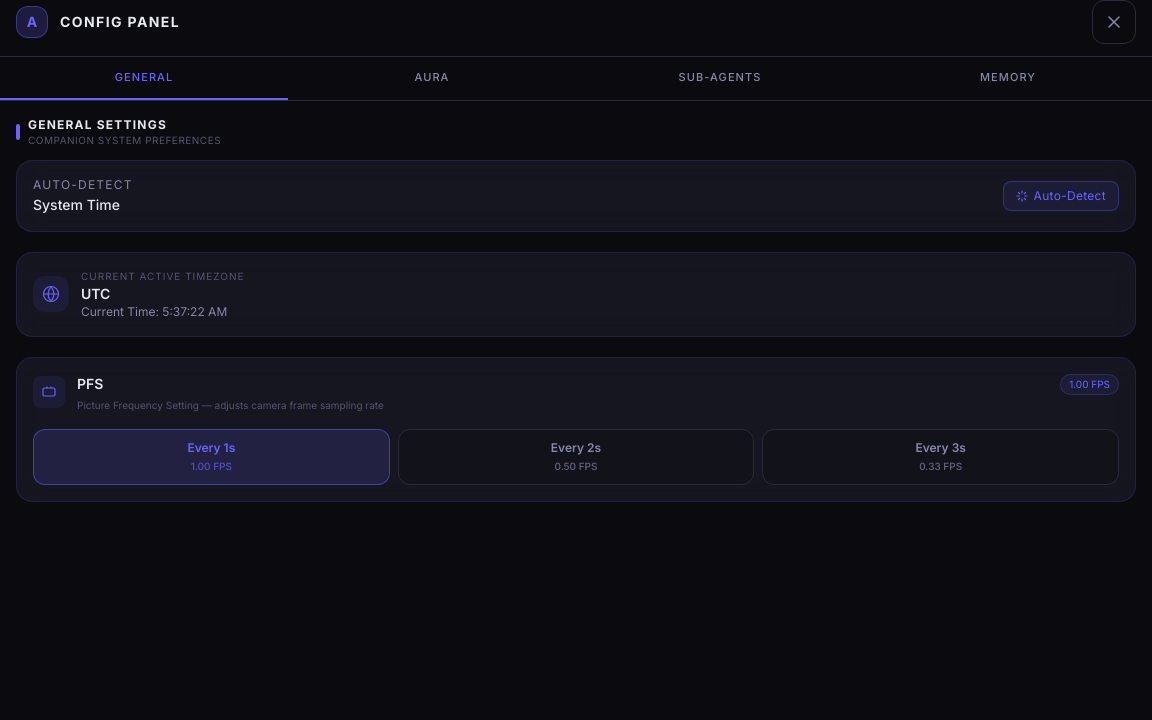
Test: ConfigPanel › switches to Sub-Agents tab on click
Click the tab "Sub-Agents": (720, 78) [576,57,864,100]
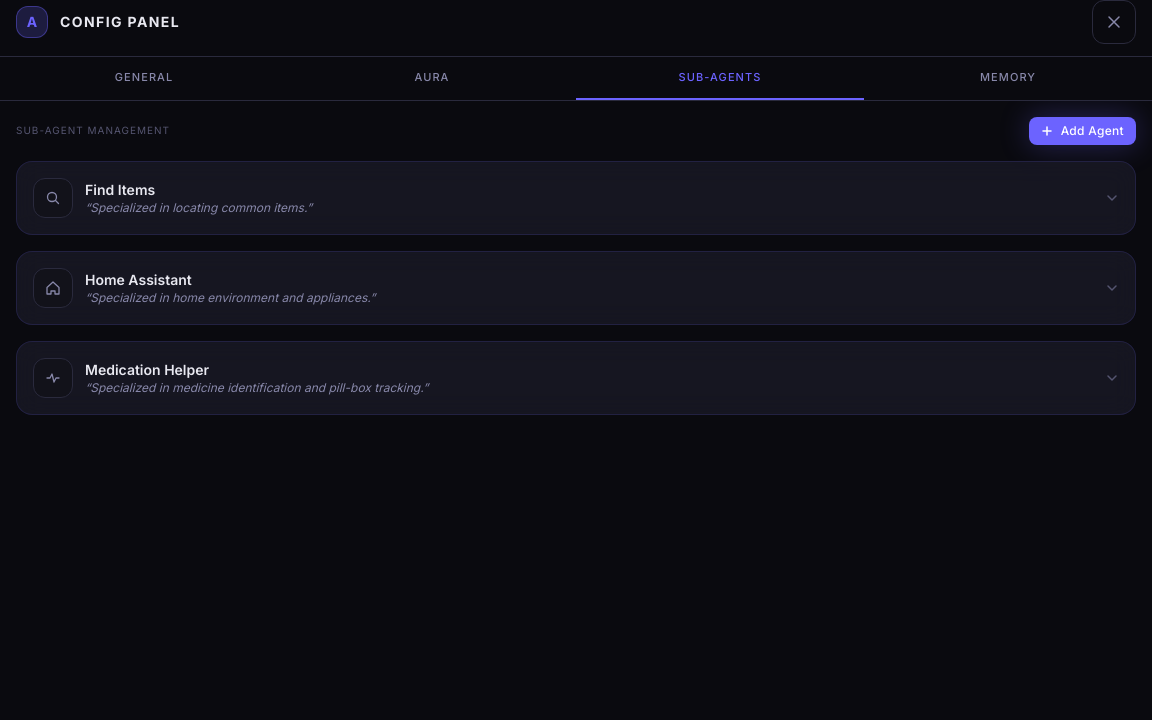
Result: the text "Sub-Agent Management" is shown at [16,123,170,138]
